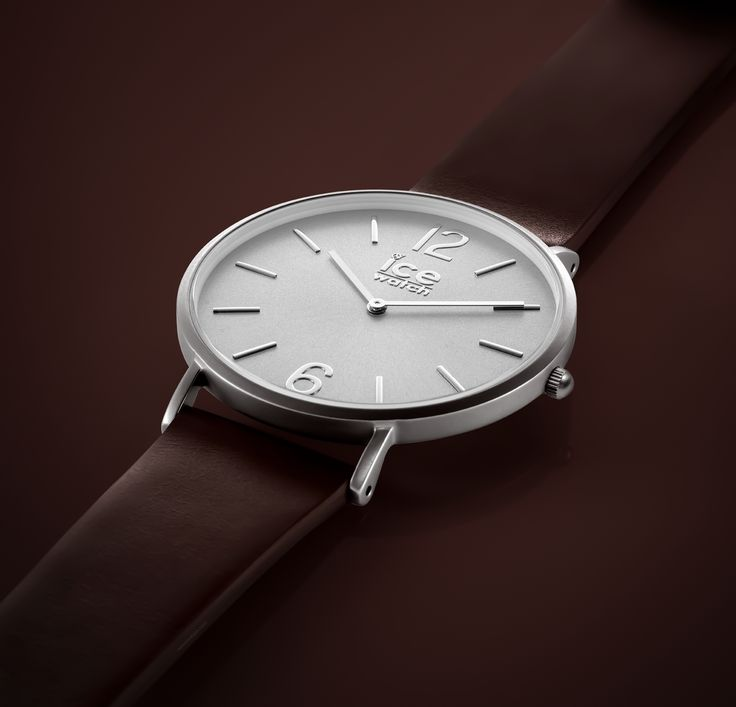clock: (176, 189, 579, 438)
